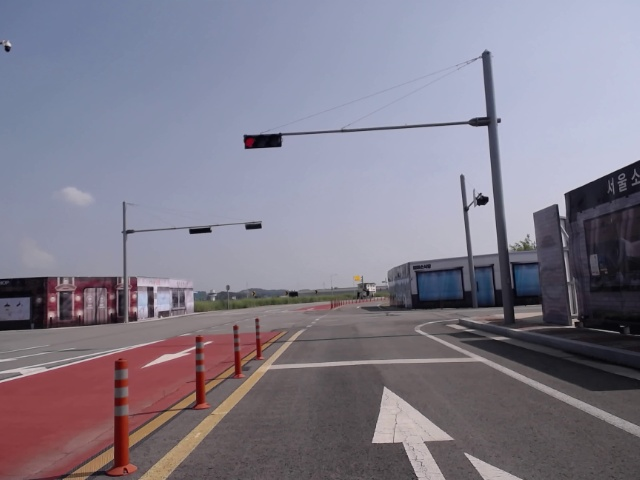red_3: (243, 132, 282, 149)
